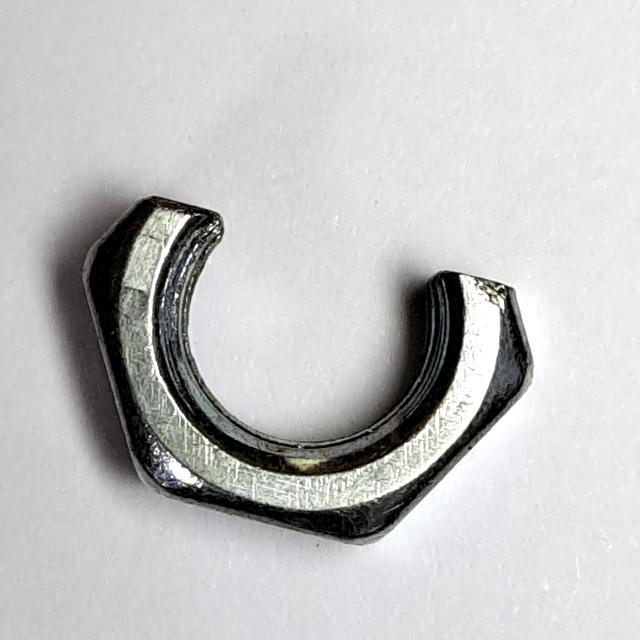Fracture: (66, 175, 547, 565)
